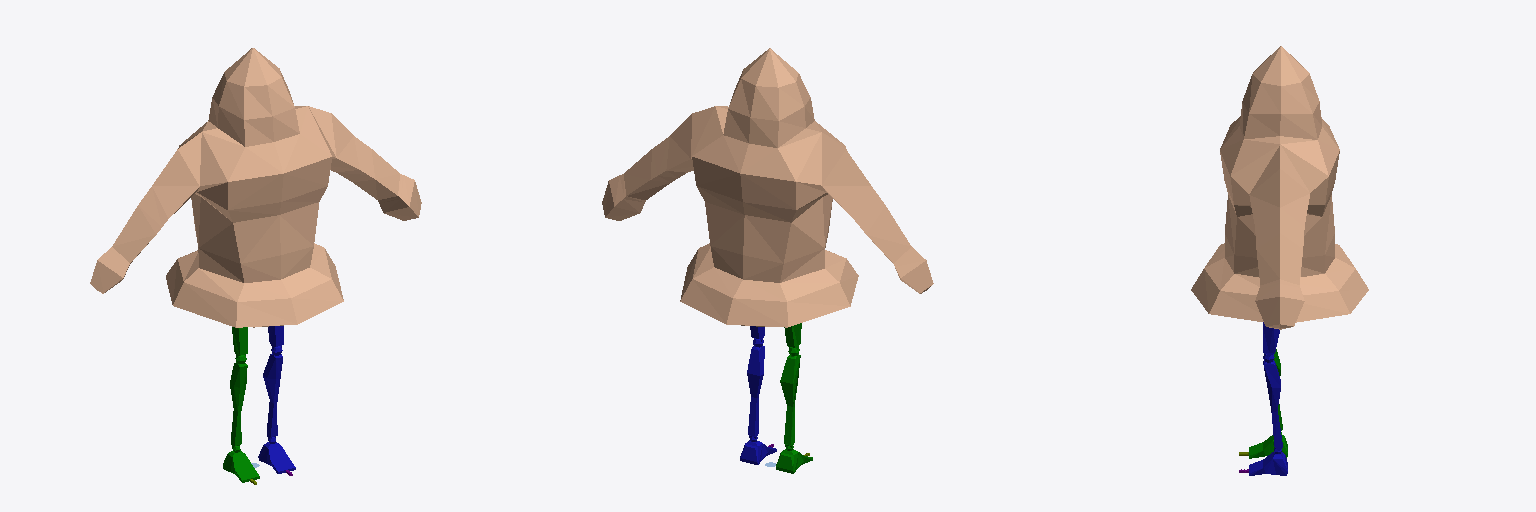
The model's file is Spawner.obj.
The picture shows the model from 3 angles: view 1: azimuth 30°, elevation 25°; view 2: azimuth 150°, elevation 25°; view 3: azimuth 270°, elevation 25°; orthographic projection.
Visible parts, largest first — view 1: Box001, Bip001_L_Calf, Bip001_R_Calf, Bip001_L_Foot, Bip001_R_Foot; view 2: Box001, Bip001_R_Calf, Bip001_L_Calf, Bip001_L_Foot, Bip001_R_Foot; view 3: Box001, Bip001_L_Calf, Bip001_L_Foot.
Boxes of the visible parts, x1=… form: Box001: x1=90, y1=48, x2=421, y2=327; Bip001_L_Calf: x1=263, y1=346, x2=282, y2=439; Bip001_R_Calf: x1=230, y1=355, x2=247, y2=448; Bip001_L_Foot: x1=258, y1=437, x2=295, y2=473; Bip001_R_Foot: x1=223, y1=446, x2=259, y2=482; Box001: x1=602, y1=48, x2=933, y2=327; Bip001_R_Calf: x1=780, y1=347, x2=800, y2=447; Bip001_L_Calf: x1=747, y1=338, x2=764, y2=438; Bip001_L_Foot: x1=740, y1=437, x2=776, y2=464; Bip001_R_Foot: x1=776, y1=446, x2=812, y2=473; Box001: x1=1191, y1=46, x2=1368, y2=329; Bip001_L_Calf: x1=1263, y1=354, x2=1282, y2=450; Bip001_L_Foot: x1=1249, y1=448, x2=1287, y2=475.
Size of the model in its own units: 3.99 by 4.81 by 1.86.